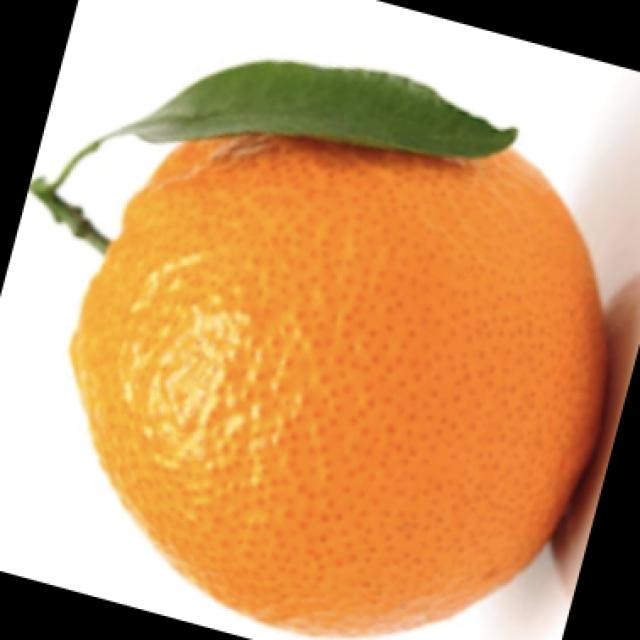fresh: (24, 99, 621, 640)
